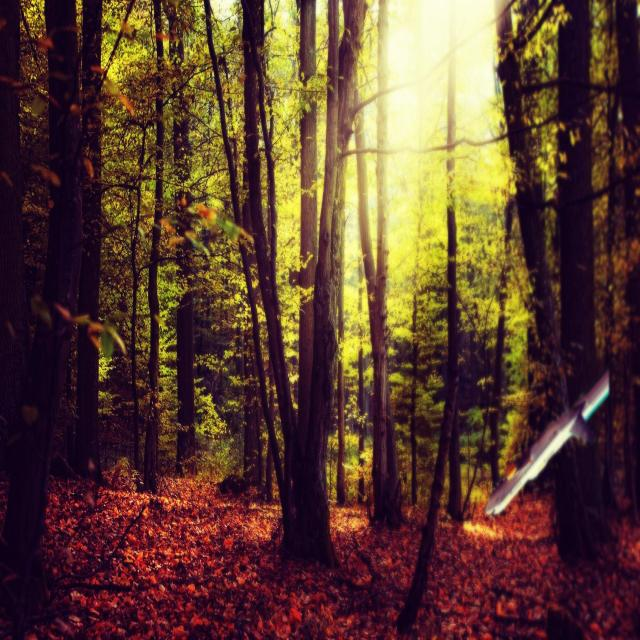airplane: (484, 368, 610, 519)
